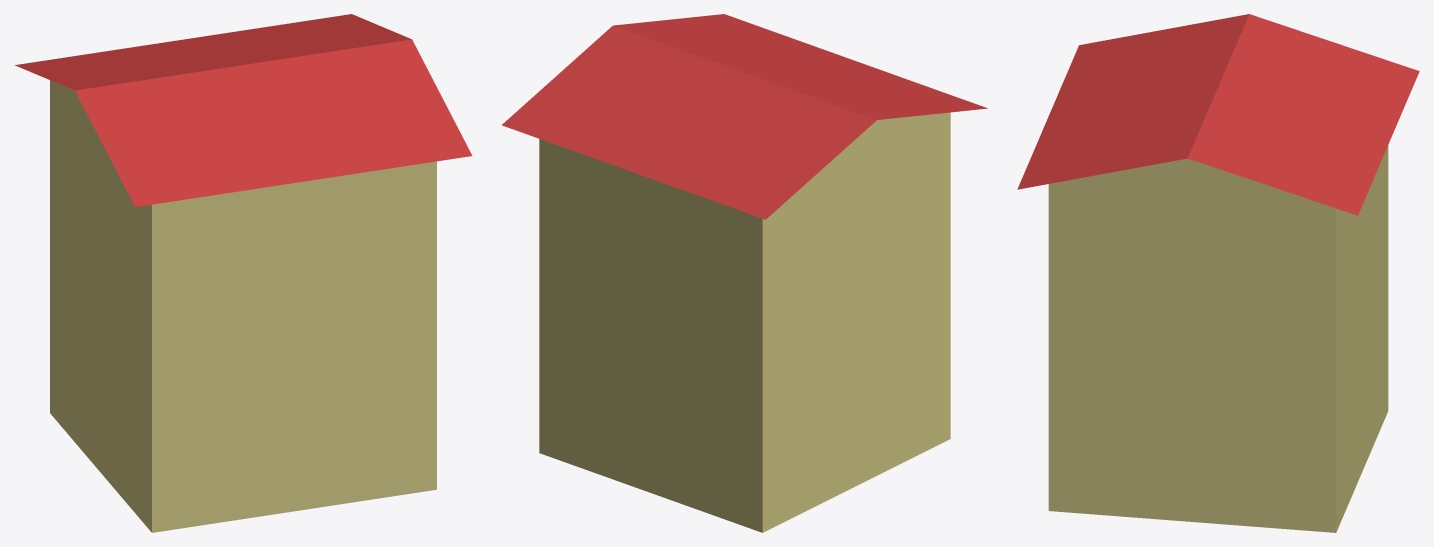
3 renders of one model, left to right at view 1: azimuth 30°, elevation 25°; view 2: azimuth 150°, elevation 25°; view 3: azimuth 270°, elevation 25°, orthographic. The views are drawn at different scales.
Size of the model in its own units: 7.49 by 7.47 by 7.67.
